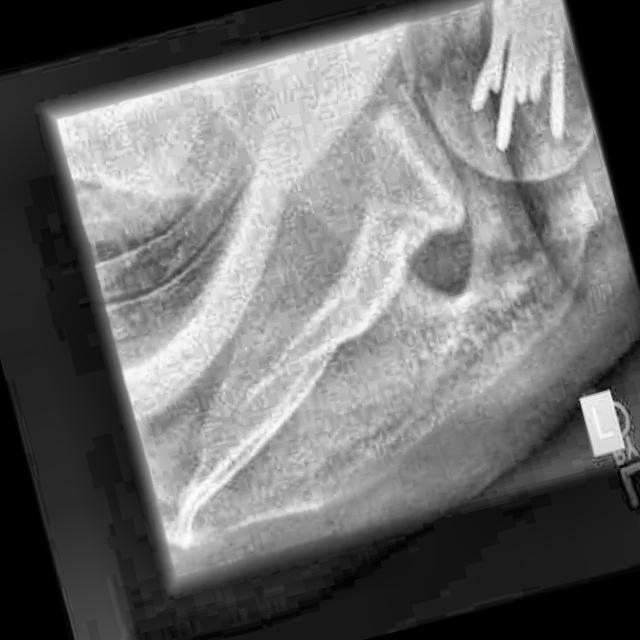shoulder fracture: (219, 267, 395, 480)
